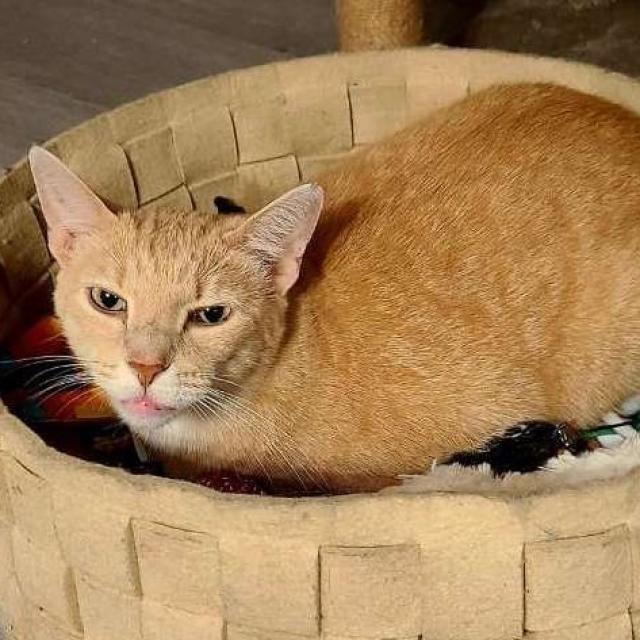american_shorthair_cat: (13, 142, 330, 452)
